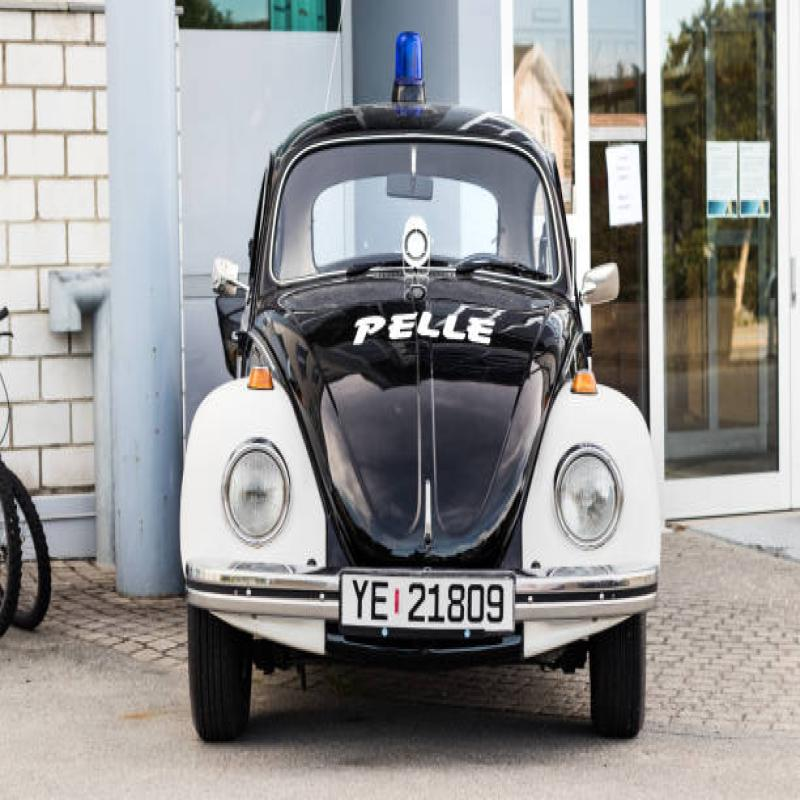AmbulanceSiren: (379, 14, 441, 104)
